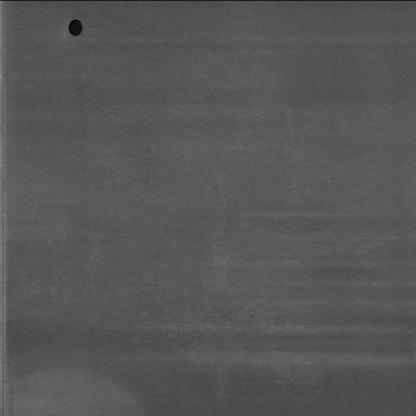punching_hole: (60, 16, 88, 40)
